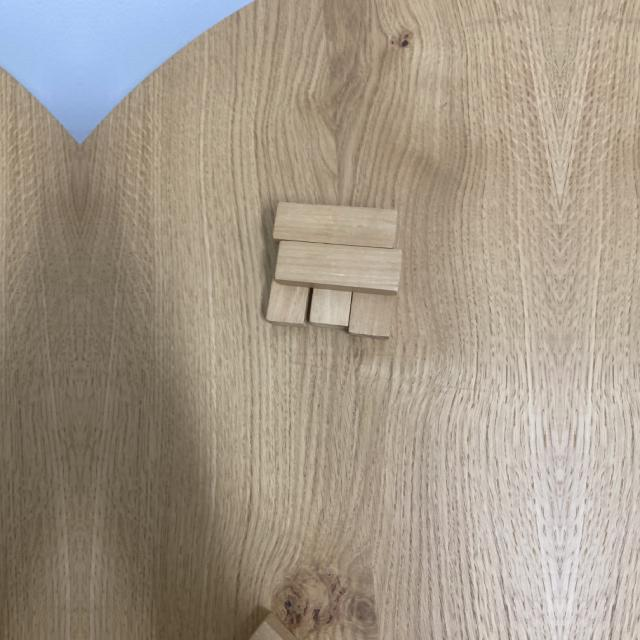cube: (350, 294, 398, 338), (264, 286, 308, 324), (309, 286, 349, 326)
jenga: (269, 245, 405, 285), (274, 203, 402, 243)
